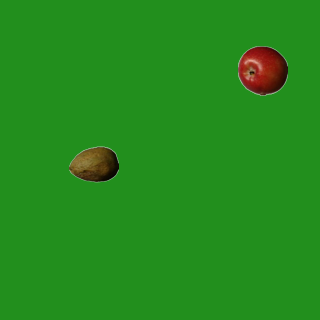Apple Braeburn: (237, 45, 287, 95)
Papaya: (68, 139, 118, 189)
